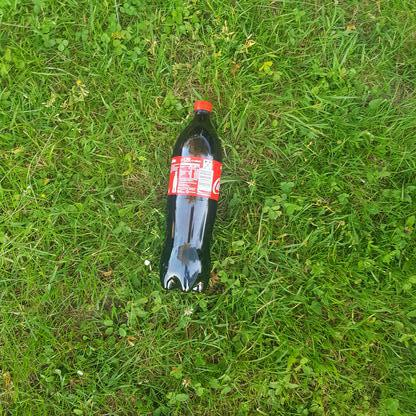coca-cola: (158, 99, 226, 296)
